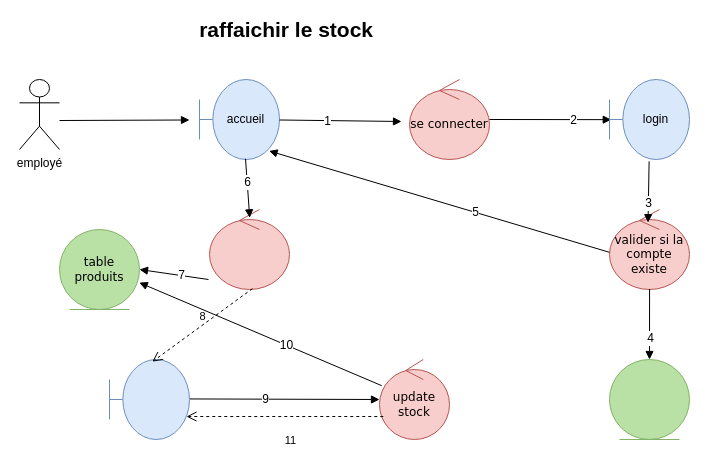
The diagram is 707 pixels wide and 464 high, and some of its shapes have lost their labels. The centre of each missing label's shape, as x and y in pixels:
"afficher liste de produits" belongs at (249,249).
"liste produits" belongs at (149,399).
"table utilisateurs" belongs at (649,399).
